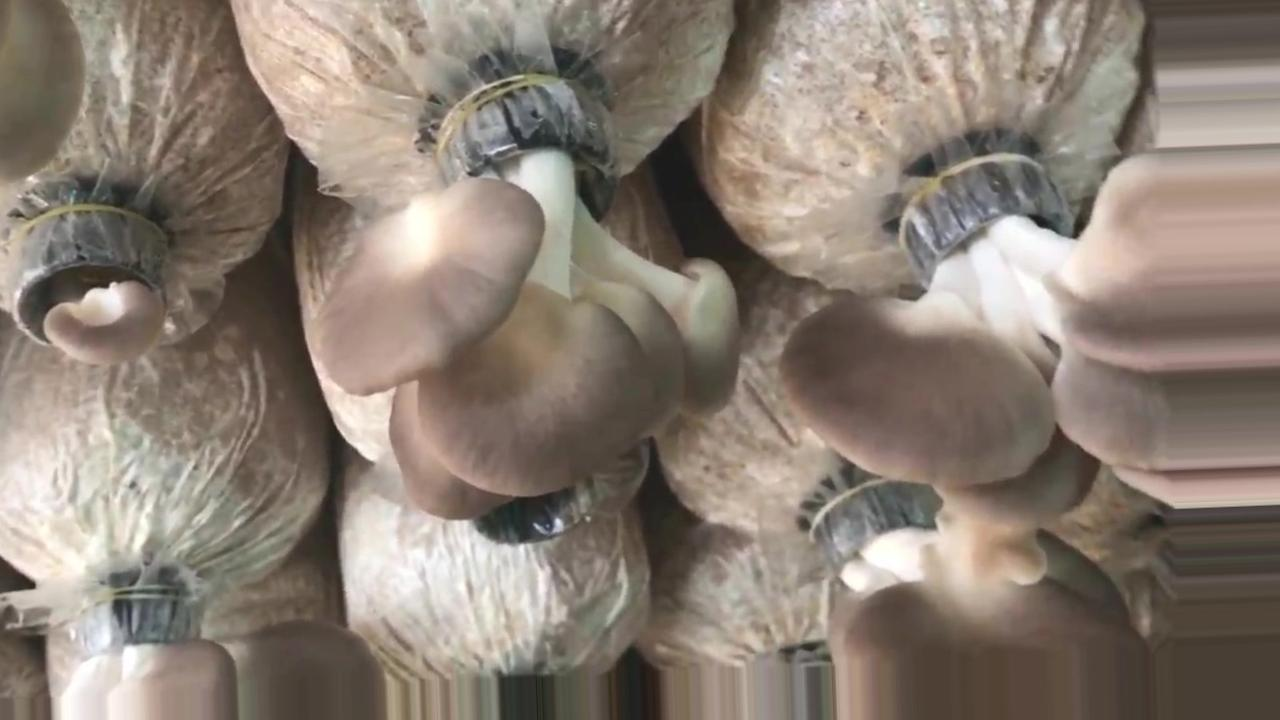nam: (790, 148, 1279, 526), (319, 85, 736, 517), (830, 488, 1150, 719), (53, 591, 381, 720), (15, 205, 170, 363), (1, 3, 82, 181)
